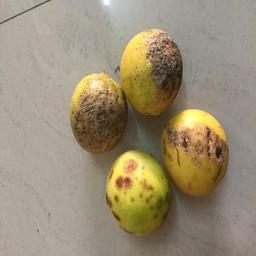Bad_lime: (165, 106, 231, 200), (106, 145, 168, 241), (120, 29, 184, 117), (71, 71, 126, 152)
